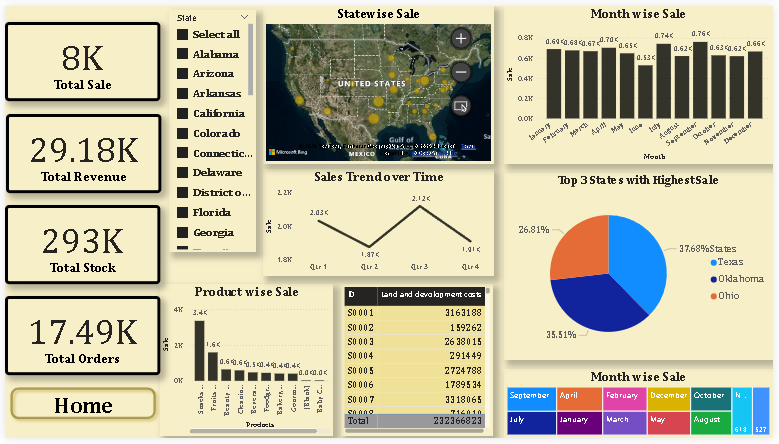

This screenshot's page, from the dashboard's own definition file:
{"tool":"powerbi","page":{"name":"Analysis","canvas":[1280,720],"ordinal":1},"visuals":[{"type":"columnChart","title":"Month wise Sale","fields":{"Category":["sales2017.order_date_2.Variation.Date Hierarchy.Month"],"Y":["Sum(sales2017.sales)"]},"box":[831.3,0,448.2,263.5],"z":0},{"type":"pieChart","title":"Top 3 States with Highest Sale","fields":{"Category":["Stores_location.State"],"Y":["Sum(sales2017.sales)"]},"box":[831.3,278.6,448.2,311.9],"z":1000},{"type":"card","fields":{"Values":["Sum(sales2017.sales)"]},"box":[0,26,258.8,131.6],"z":2000},{"type":"card","fields":{"Values":["Sum(sales2017.revenue)"]},"box":[1.4,179.3,258.8,131.6],"z":3000},{"type":"card","fields":{"Values":["Sum(sales2017.stock)"]},"box":[0,331.1,258.8,131.6],"z":4000},{"type":"card","fields":{"Values":["CountNonNull(sales2017.order_id)"]},"box":[0,482.9,258.8,131.6],"z":5000},{"type":"map","title":"Statewise Sale","fields":{"Category":["Stores_location.State"],"Y":["Avg(Stores_location.Lat)"],"X":["Avg(Stores_location.Long)"],"Size":["Sum(sales2017.sales)"]},"box":[430,0,384.6,263.5],"z":6000},{"type":"lineChart","title":"Sales Trend over Time","fields":{"Category":["sales2017.order_date_2.Variation.Date Hierarchy.Quarter"],"Y":["Sum(sales2017.sales)"]},"box":[430,271,384.6,178.7],"z":7000},{"type":"treemap","title":"Month wise Sale","fields":{"Group":["sales2017.order_date_2.Variation.Date Hierarchy.Month"],"Values":["Sum(sales2017.sales)"]},"box":[831.3,604.2,448.2,115.1],"z":8000},{"type":"tableEx","fields":{"Values":["Stores_Cost.store_id","Sum(Stores_Cost.land and devolopment costs)"]},"box":[560.3,463.3,254.4,254.4],"z":9000},{"type":"actionButton","box":[0,626,260.2,70.8],"z":10000},{"type":"columnChart","title":"Product wise Sale","fields":{"Y":["Sum(sales2017.sales)"],"Category":["Products_data.category"]},"box":[258.9,463.3,289.2,254.4],"z":11000},{"type":"slicer","fields":{"Values":["Stores_location.State"]},"box":[274.1,6.1,145.4,404.3],"z":12000}]}

Visuals, with their boxes in screenshot pixels (x1, y1, x2, y2), scaled from the page's 1280x720 canvas onto the 779x444 screenshot:
"Month wise Sale" columnChart: (506,0,778,162)
"Top 3 States with Highest Sale" pieChart: (506,172,778,364)
card - Sum(sales2017.sales): (0,16,158,97)
card - Sum(sales2017.revenue): (1,111,158,192)
card - Sum(sales2017.stock): (0,204,158,285)
card - CountNonNull(sales2017.order_id): (0,298,158,379)
"Statewise Sale" map: (262,0,496,162)
"Sales Trend over Time" lineChart: (262,167,496,277)
"Month wise Sale" treemap: (506,373,778,443)
tableEx - Stores_Cost.store_id x Sum(Stores_Cost.land and devolopment costs): (341,286,496,443)
actionButton: (0,386,158,430)
"Product wise Sale" columnChart: (158,286,334,443)
slicer - Stores_location.State: (167,4,255,253)
